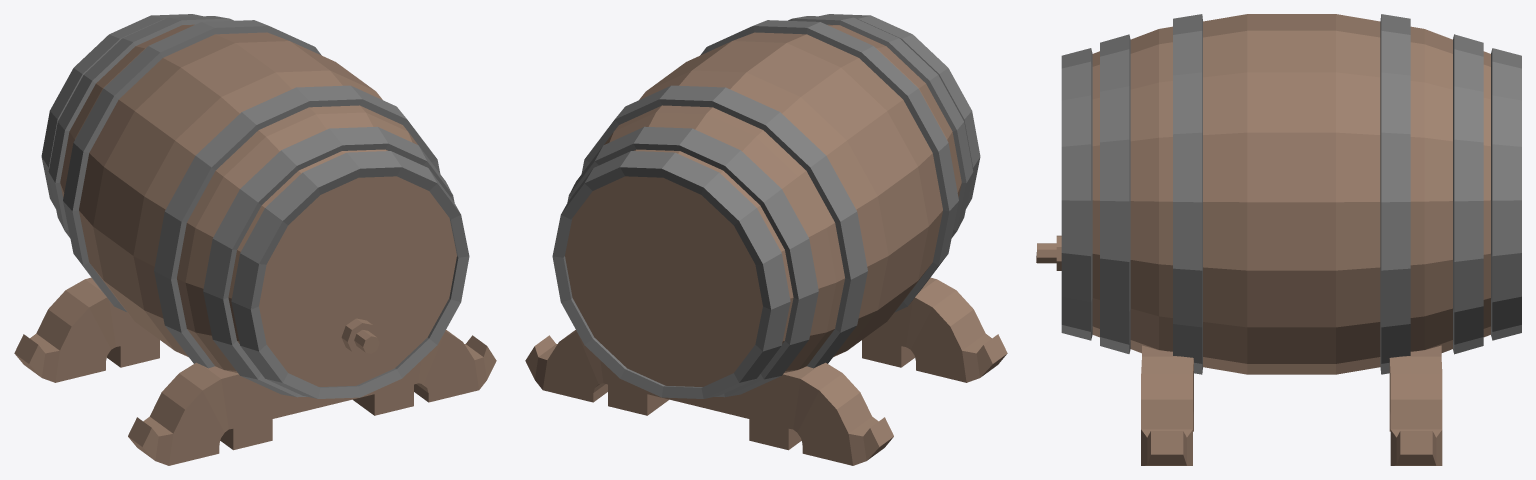
File: barrel_horizontal.fbx
3 views of the same model, side by side, from view 1: azimuth 30°, elevation 25°; view 2: azimuth 150°, elevation 25°; view 3: azimuth 270°, elevation 25° (orthographic). The views are drawn at different scales.
Visible parts, largest first — view 1: Cylinder, Cube, Cylinder.002; view 2: Cylinder, Cube; view 3: Cylinder, Cube, Cylinder.002.
Part boxes in pixels (box(x1,y1,x2,y2)): Cylinder: box(41, 14, 469, 398); Cube: box(14, 277, 496, 465); Cylinder.002: box(341, 318, 379, 353); Cylinder: box(552, 14, 980, 398); Cube: box(525, 277, 1007, 465); Cylinder: box(1061, 14, 1521, 374); Cube: box(1141, 345, 1442, 465); Cylinder.002: box(1036, 235, 1061, 270).
Size of the model in its own units: 60.89 by 52.69 by 65.79.
